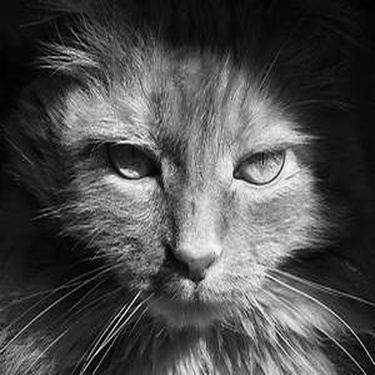cat: (9, 21, 366, 369)
